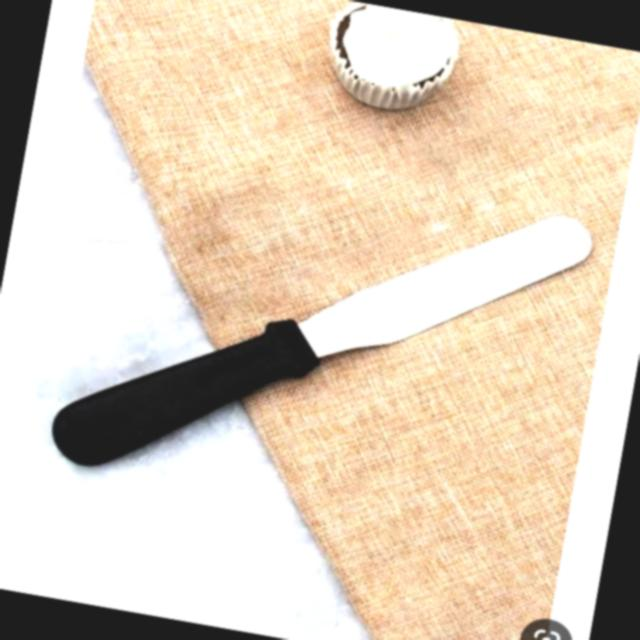knife: (23, 105, 608, 559)
